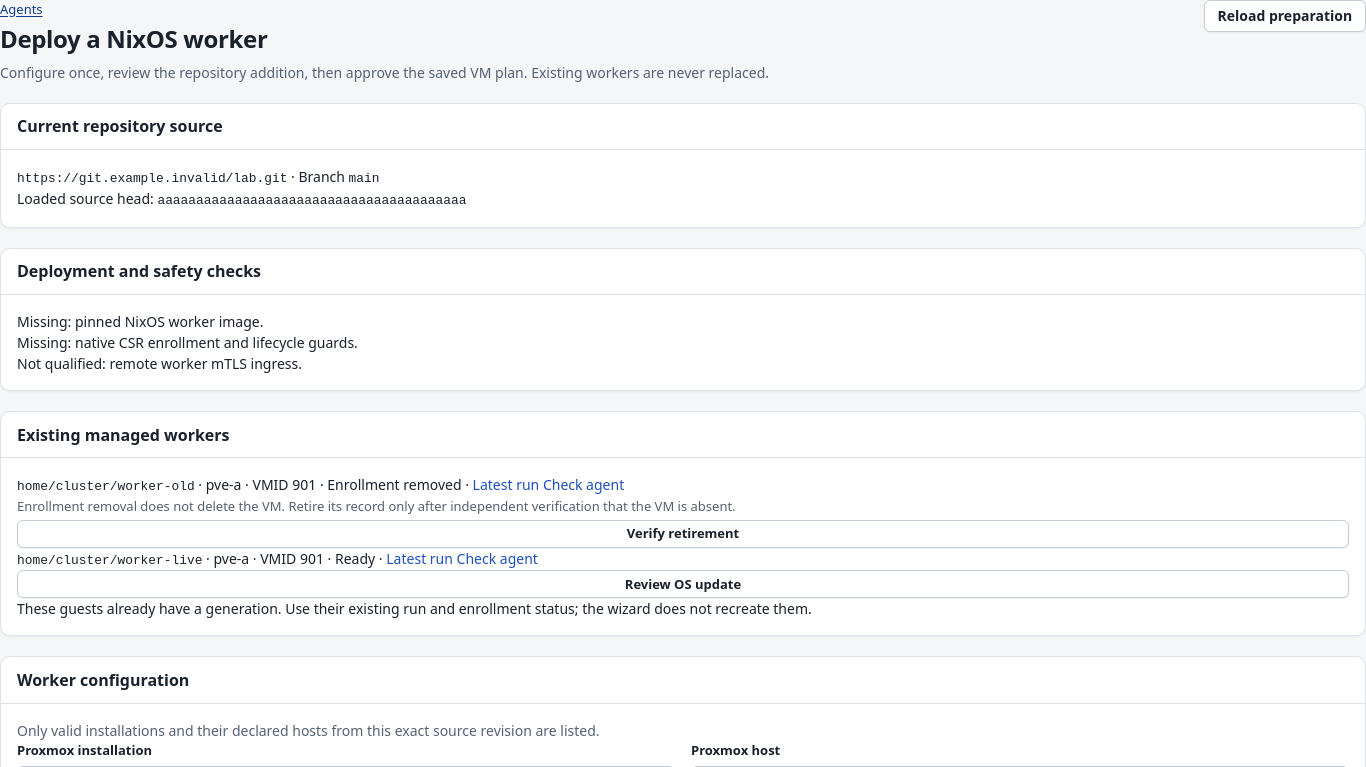
Test case: requires explicit confirmation before checking an already removed worker and refreshes its retirement state
This screenshot has width=1366, height=767.
Click the button with aria-label "Verify retirement for home/cluster/worker-old": (683, 534) x1=17 y1=520 x2=1349 y2=548
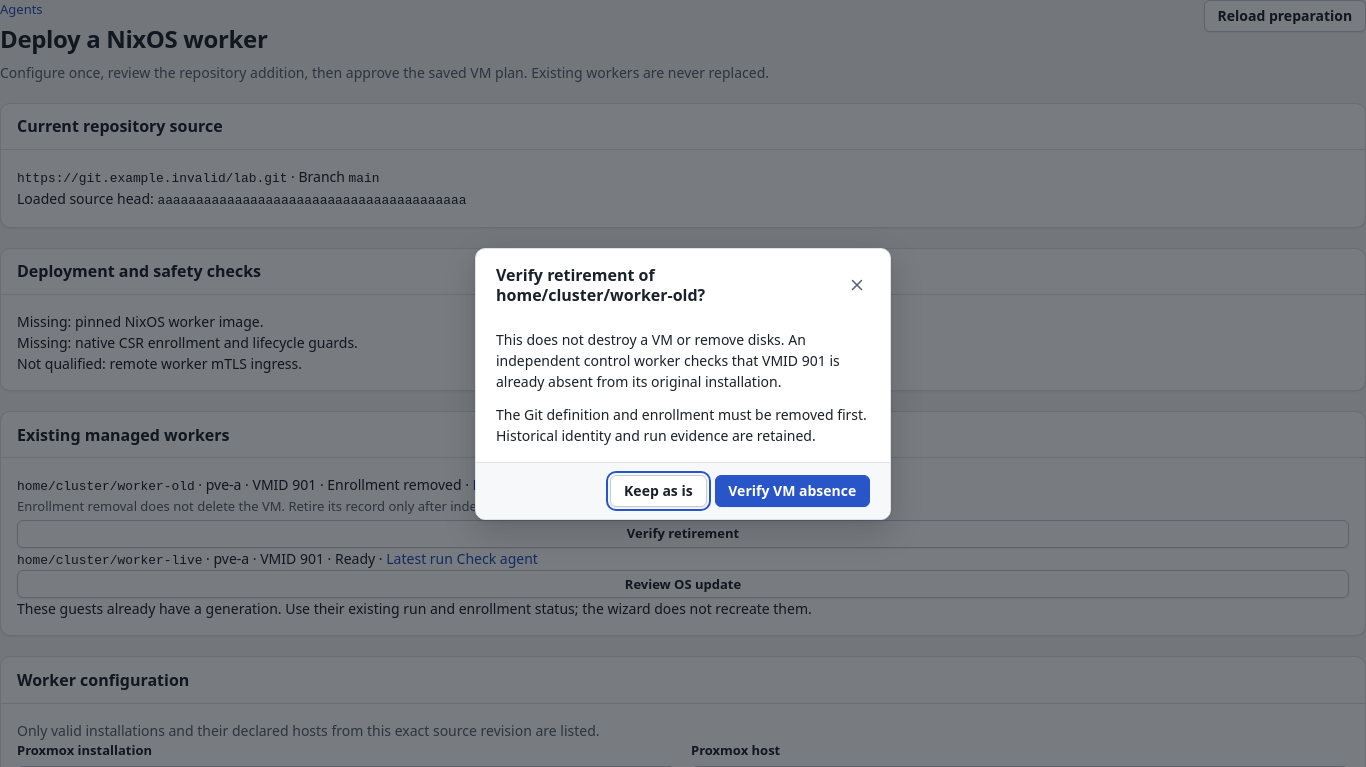
Expected: the text "This does not destroy a VM" is shown, x1=496 y1=330 x2=806 y2=370
Click the button "Verify VM absence": (792, 491) x1=714 y1=475 x2=870 y2=507
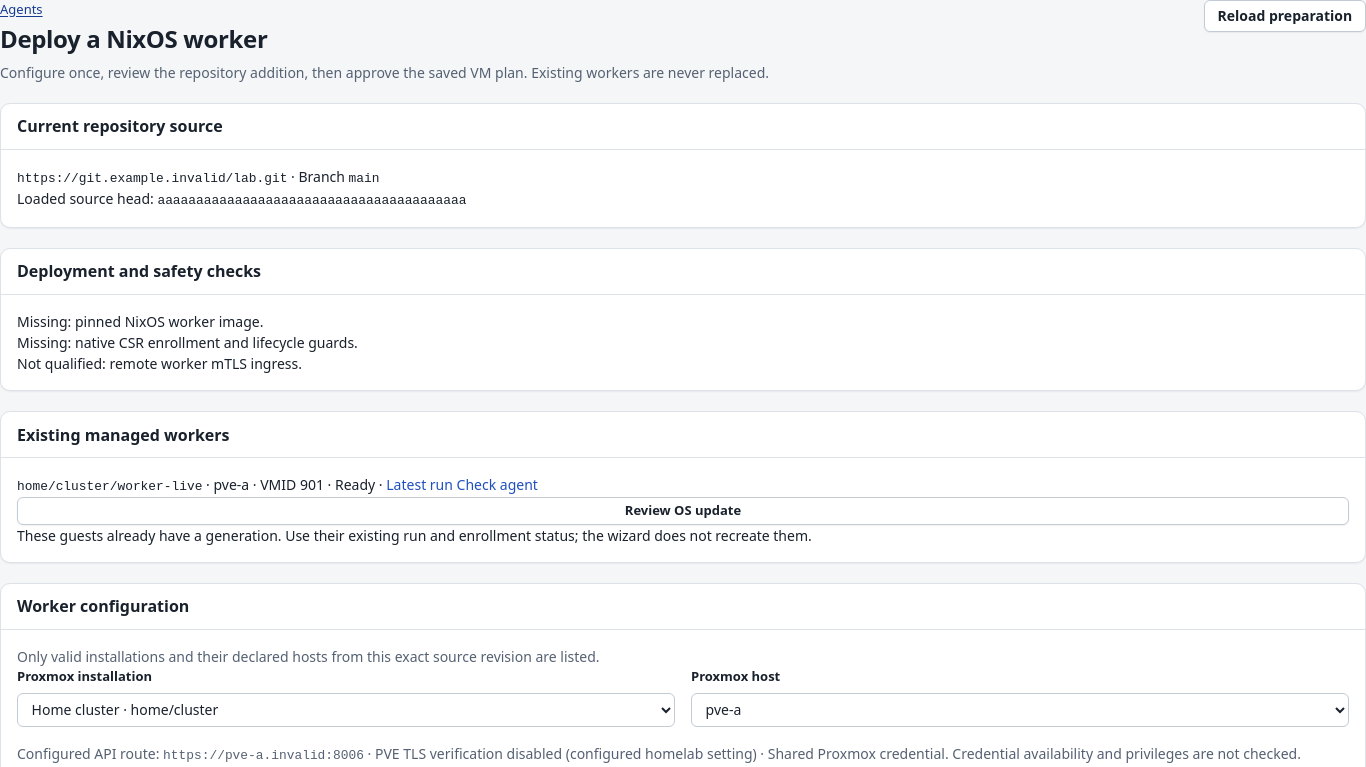
Expected: the text "home/cluster/worker-live" is shown, x1=17 y1=479 x2=202 y2=494
Expected: the text "home/cluster/worker-old" is gone
